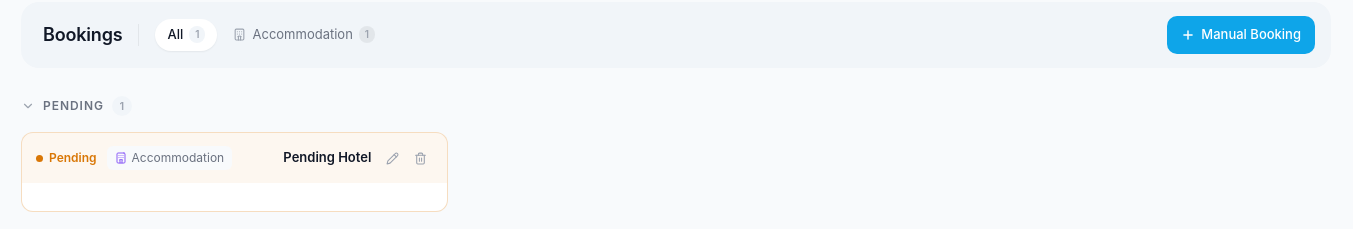
Test case: ReservationsPanel › FE-PLANNER-RESP-016: clicking Pending section header collapses it
Check: the text "Pending Hotel" is shown, box 283,148 -> 371,168
The section header button contains "Pending" text
Click the button "Pending 1" at (73, 105), box 21,92 -> 1331,120
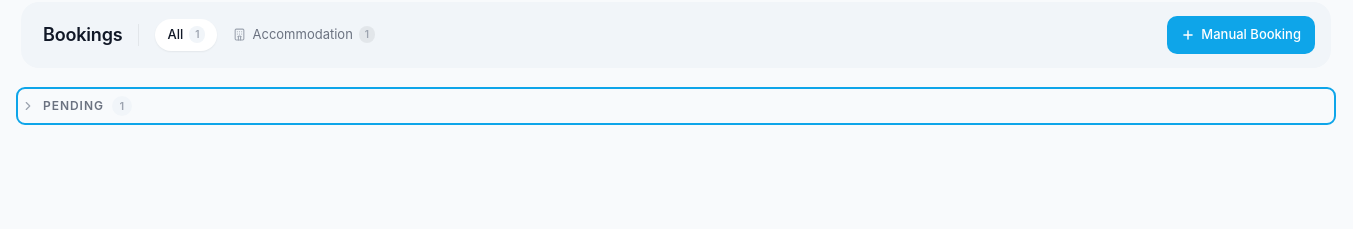
Check: the text "Pending Hotel" is gone
